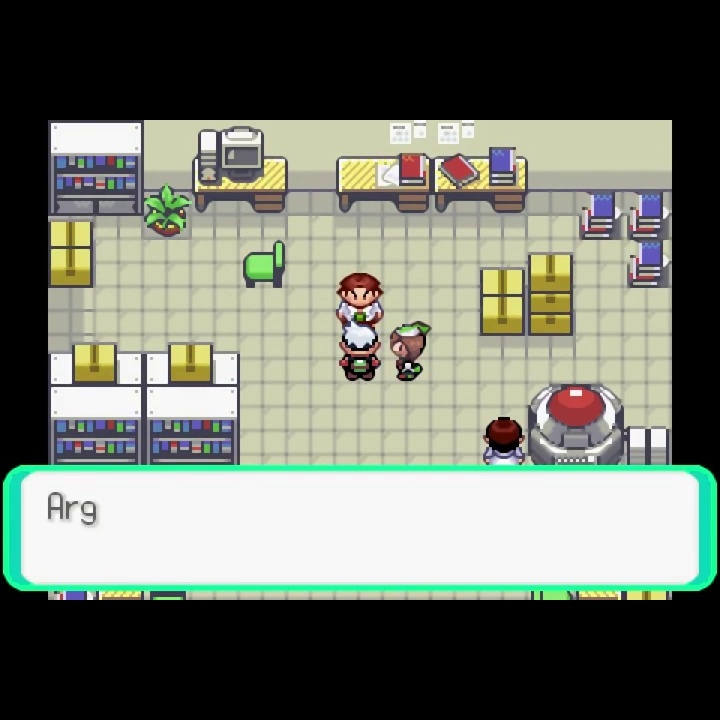agent: (339, 319, 385, 383)
npc: (335, 271, 385, 329), (476, 412, 528, 466), (389, 317, 430, 383)
